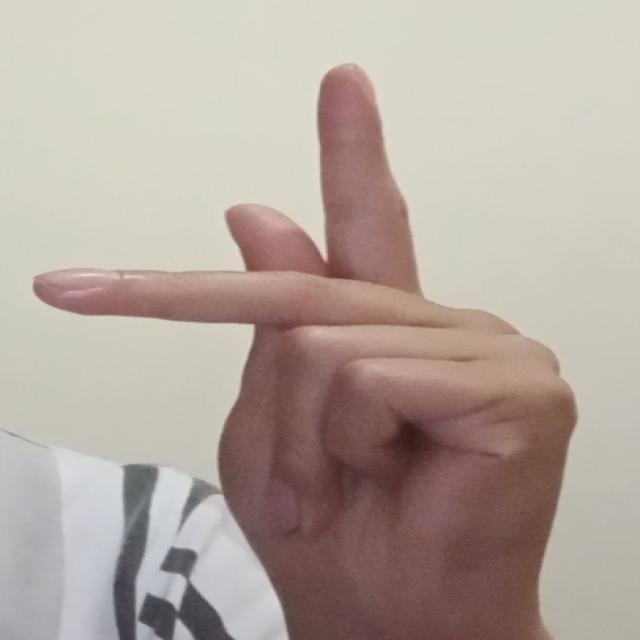P: (25, 59, 587, 631)
